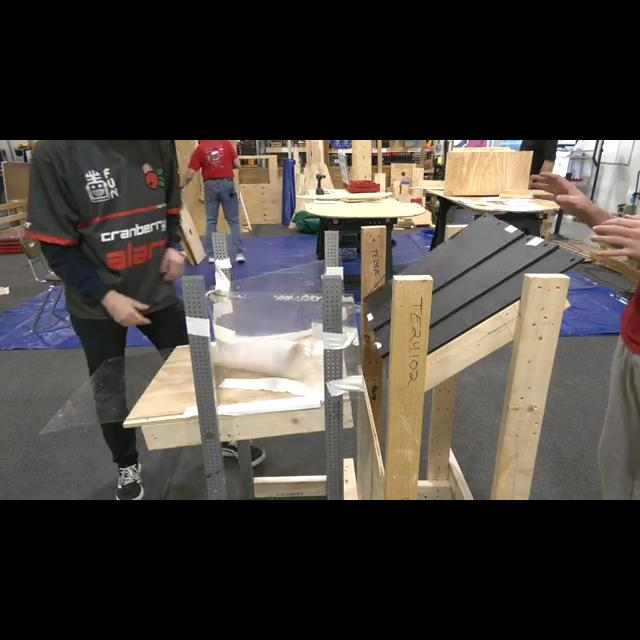CORAL: (213, 341, 304, 377)
